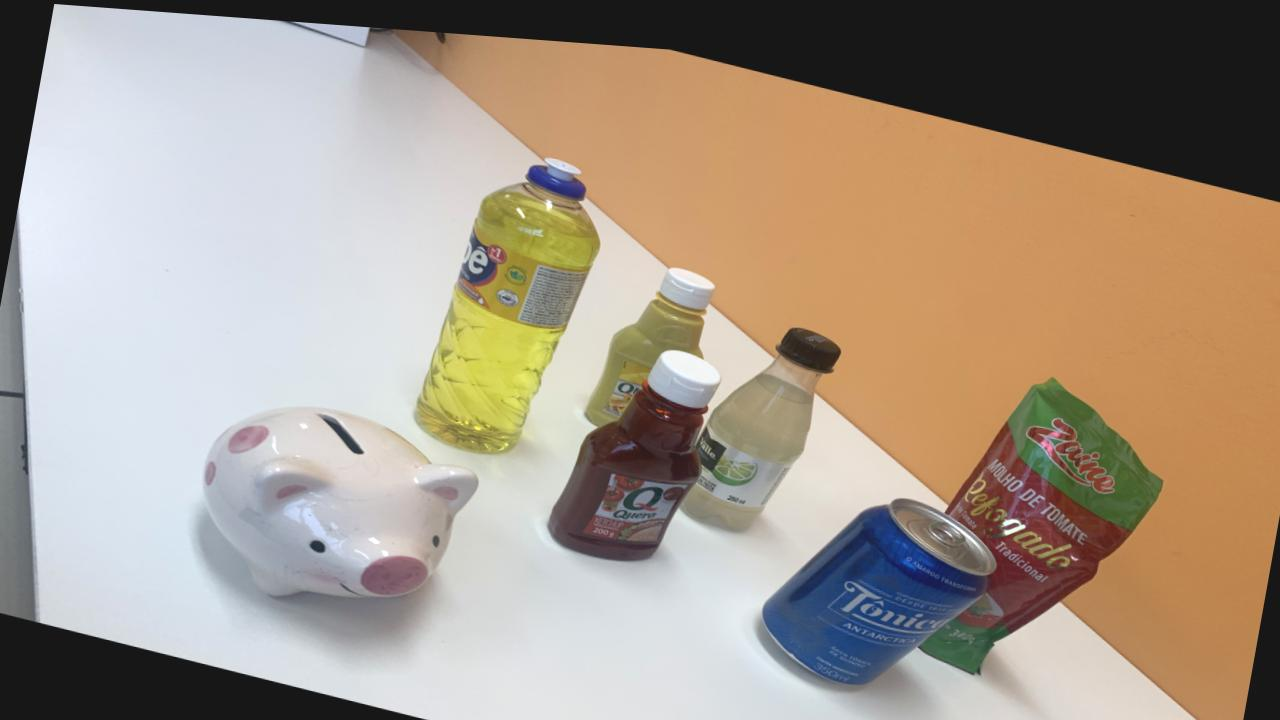Detergent-Cleanup_Items: (415, 150, 600, 445)
Ketchup-Pantry_Items: (547, 338, 720, 550)
Mustard-Pantry_Items: (585, 257, 713, 416)
Pig_Safe-Miscellaneous: (201, 401, 478, 592)
Soda-Drinks: (684, 315, 838, 519)
Tomato_Sauce-Pantry_Items: (921, 362, 1162, 657), (495, 289, 507, 295)
Tonic-Drinks: (762, 484, 996, 672)
